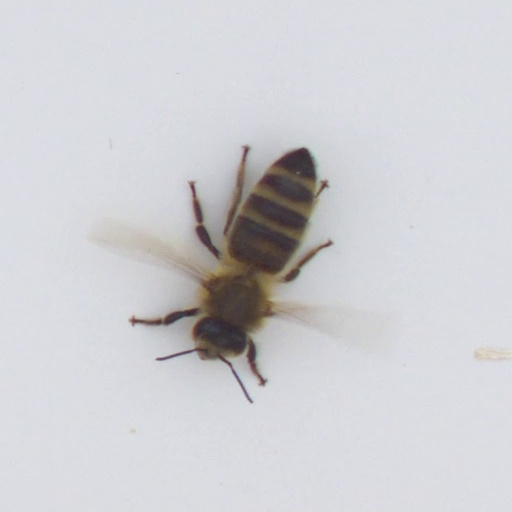Bee: (174, 128, 350, 377)
Thorax: (193, 268, 276, 328)
